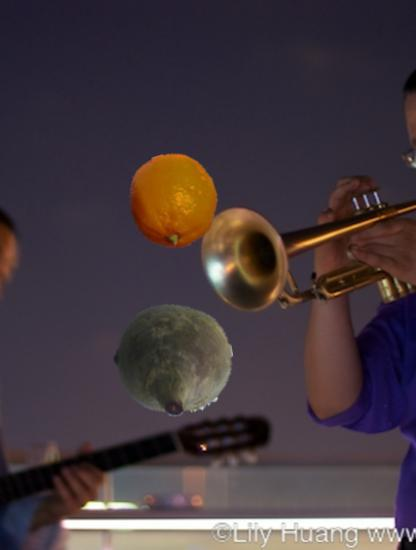Beetroot: (112, 300, 234, 422)
Lemon: (126, 153, 222, 249)
